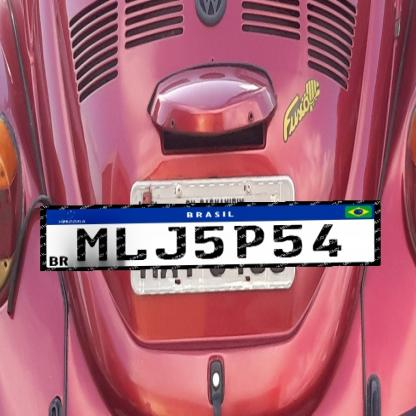PlacaM: (40, 200, 381, 271)
